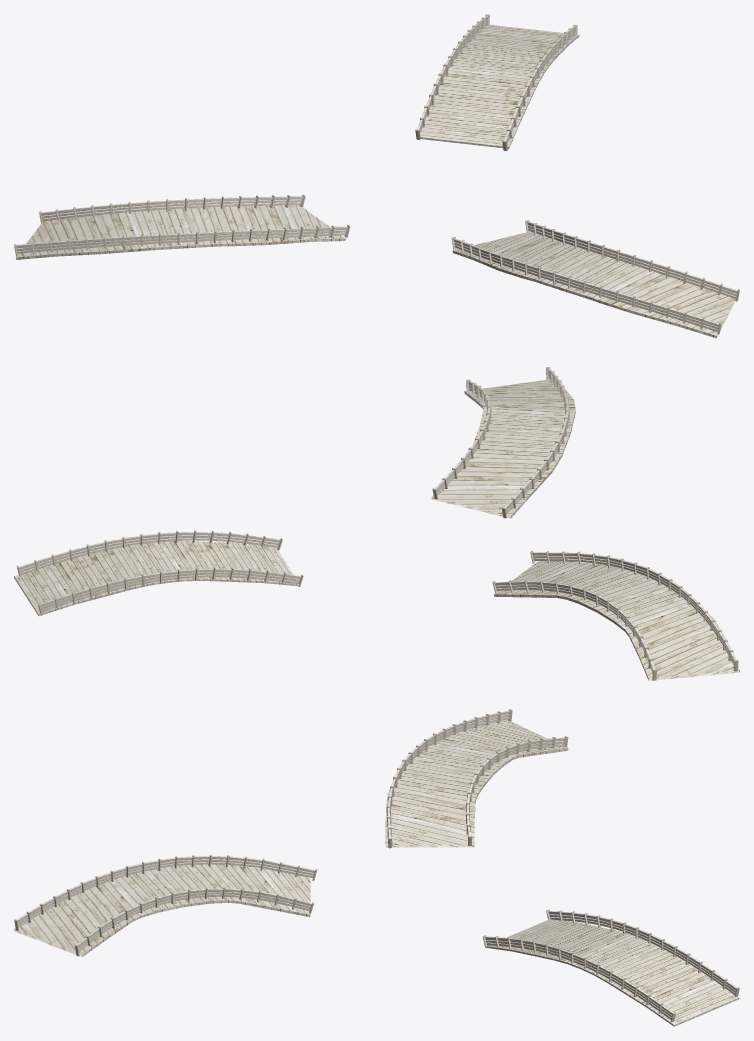
File: gazebo bridges full build.fbx
The picture shows the model from 3 angles, top to bottom: view 1: azimuth 30°, elevation 25°; view 2: azimuth 150°, elevation 25°; view 3: azimuth 270°, elevation 25°; orthographic projection. The views are drawn at different scales.
Parts seen in each view (by area): view 1: Cube.010; view 2: Cube.010; view 3: Cube.010.
Part boxes in pixels (left/top/right/bottom): Cube.010: left=14, top=14, right=739, bottom=338; Cube.010: left=14, top=367, right=739, bottom=680; Cube.010: left=14, top=709, right=739, bottom=1026.
Size of the model in its own units: 3050 by 146 by 3059.
